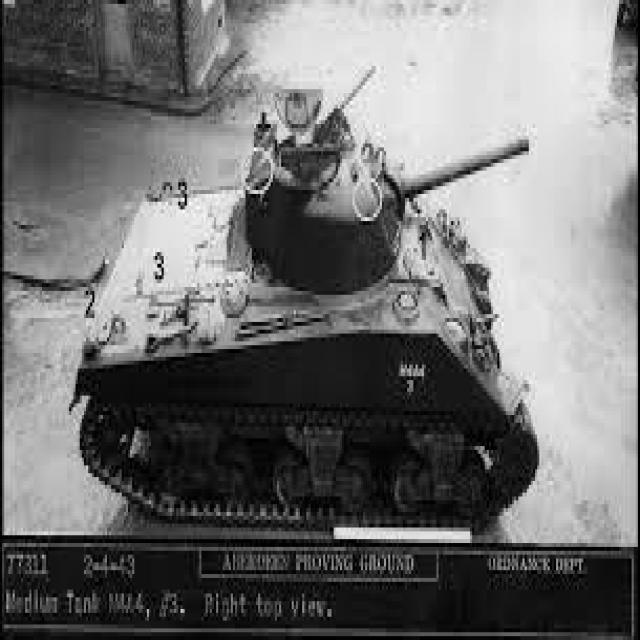MIL_MBT: (72, 97, 538, 528)
